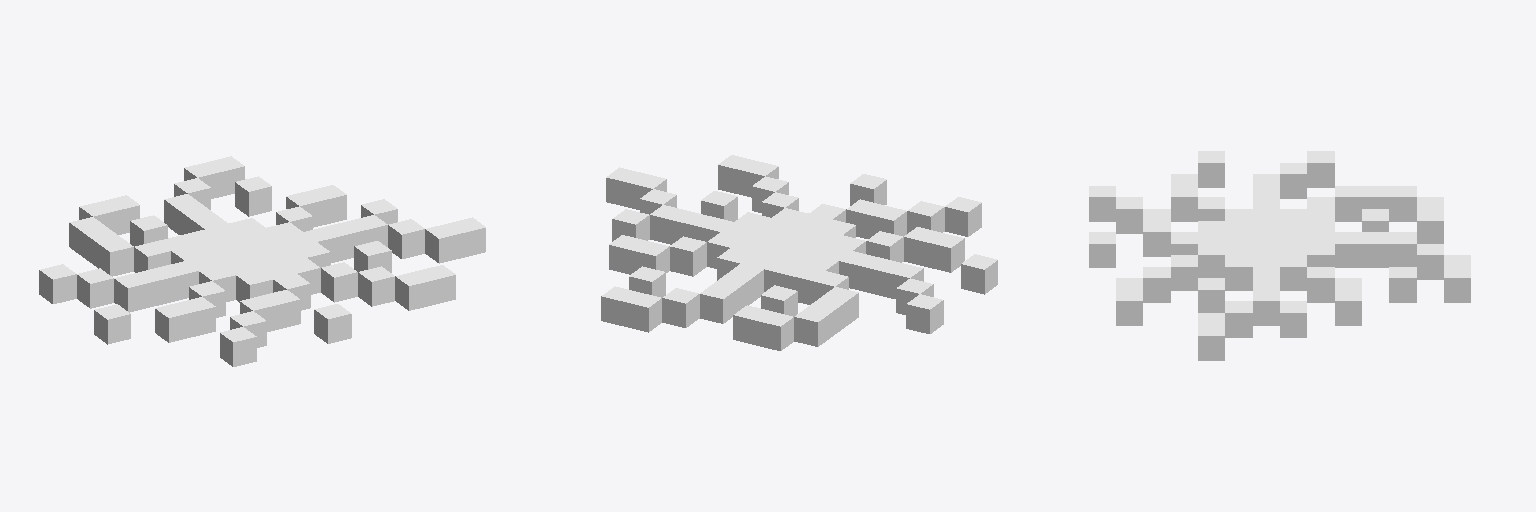
The model's file is EnemyFaible.obj.
3 views of the same model, side by side, from view 1: azimuth 30°, elevation 25°; view 2: azimuth 150°, elevation 25°; view 3: azimuth 270°, elevation 25° (orthographic).
Parts seen in each view (by area): view 1: object 1; view 2: object 1; view 3: object 1.
Boxes of the visible parts, <box> form: object 1: <box>39,156,485,366</box>; object 1: <box>601,155,997,350</box>; object 1: <box>1089,151,1470,360</box>.
Bounding box in the file's own units: 1.6 × 0.1 × 1.4.